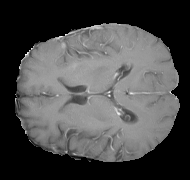Edema: (26, 34, 95, 79)
EnhancingTumors: (42, 42, 66, 74)
Necrosis: (45, 42, 61, 69)
